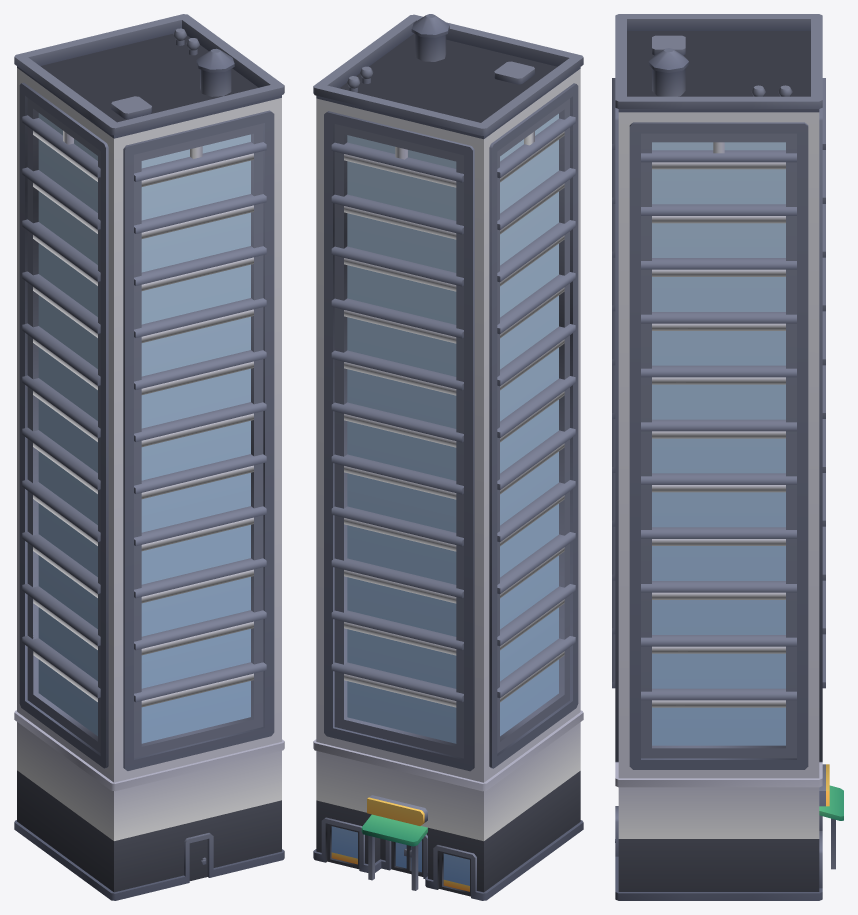
File: tower_3.fbx
3 renders of one model, left to right at view 1: azimuth 30°, elevation 25°; view 2: azimuth 150°, elevation 25°; view 3: azimuth 270°, elevation 25°, orthographic. The views are drawn at different scales.
Visible parts, largest first — view 1: tower_3; view 2: tower_3; view 3: tower_3.
Boxes of the visible parts, <box> form: tower_3: <box>14,14,284,900</box>; tower_3: <box>313,14,583,900</box>; tower_3: <box>612,14,843,900</box>.
Bounding box in the file's own units: 1.28 × 5.47 × 1.39.
Materials: 1 (1 with a texture image).
